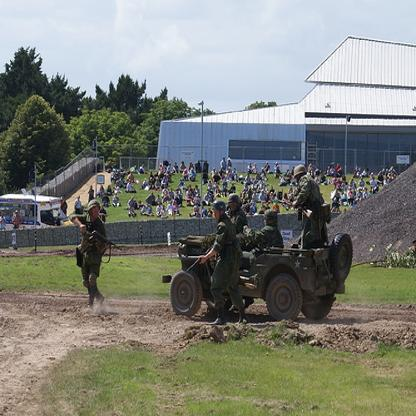Tank: (164, 226, 361, 328)
